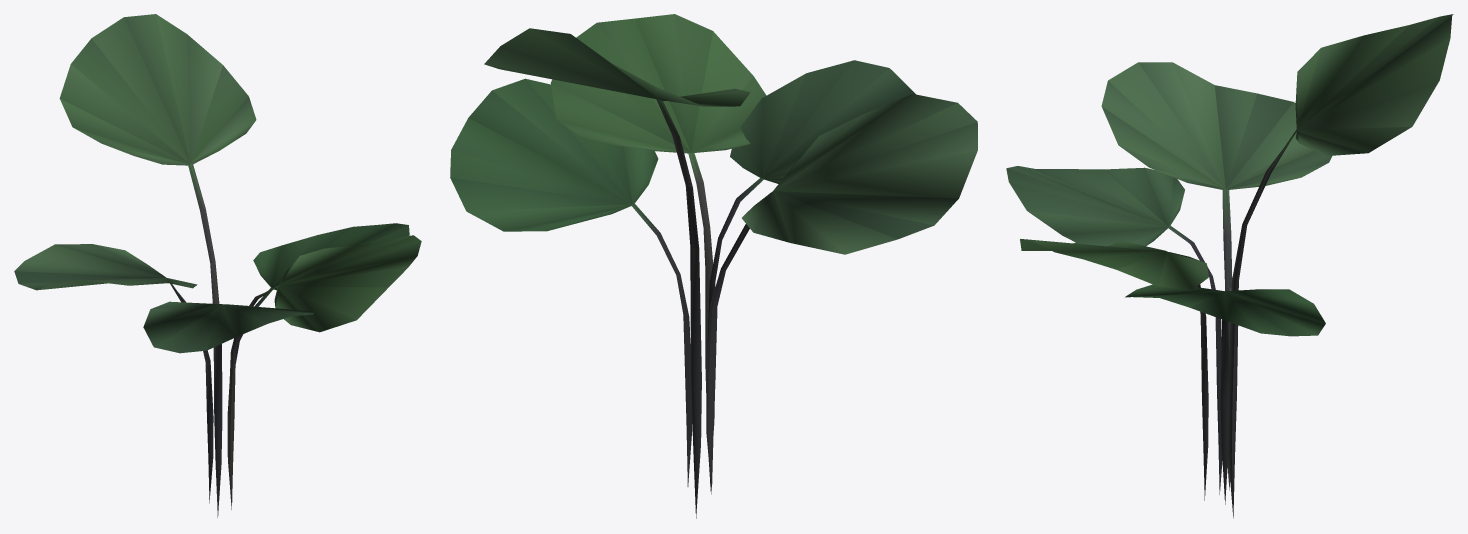
File: plants-leafy-plants-heart-leaf-plant_v1.glb
The picture shows the model from 3 angles, left to right: view 1: azimuth 30°, elevation 25°; view 2: azimuth 150°, elevation 25°; view 3: azimuth 270°, elevation 25°; orthographic projection. The views are drawn at different scales.
Visible parts, largest first — view 1: Heart Leaf Plant; view 2: Heart Leaf Plant; view 3: Heart Leaf Plant.
Boxes of the visible parts, box(x1,y1,x2,y2) form: Heart Leaf Plant: box(14, 14, 421, 517); Heart Leaf Plant: box(450, 14, 977, 518); Heart Leaf Plant: box(1006, 14, 1453, 518).
Size of the model in its own units: 0.5269 by 0.6 by 0.4827.
